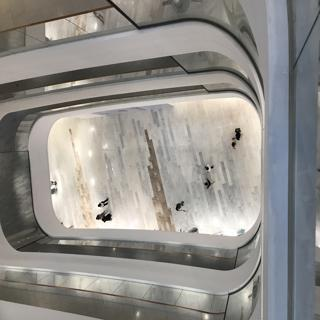person: (228, 120, 244, 147), (171, 196, 191, 217), (90, 213, 117, 224), (94, 194, 111, 208)
